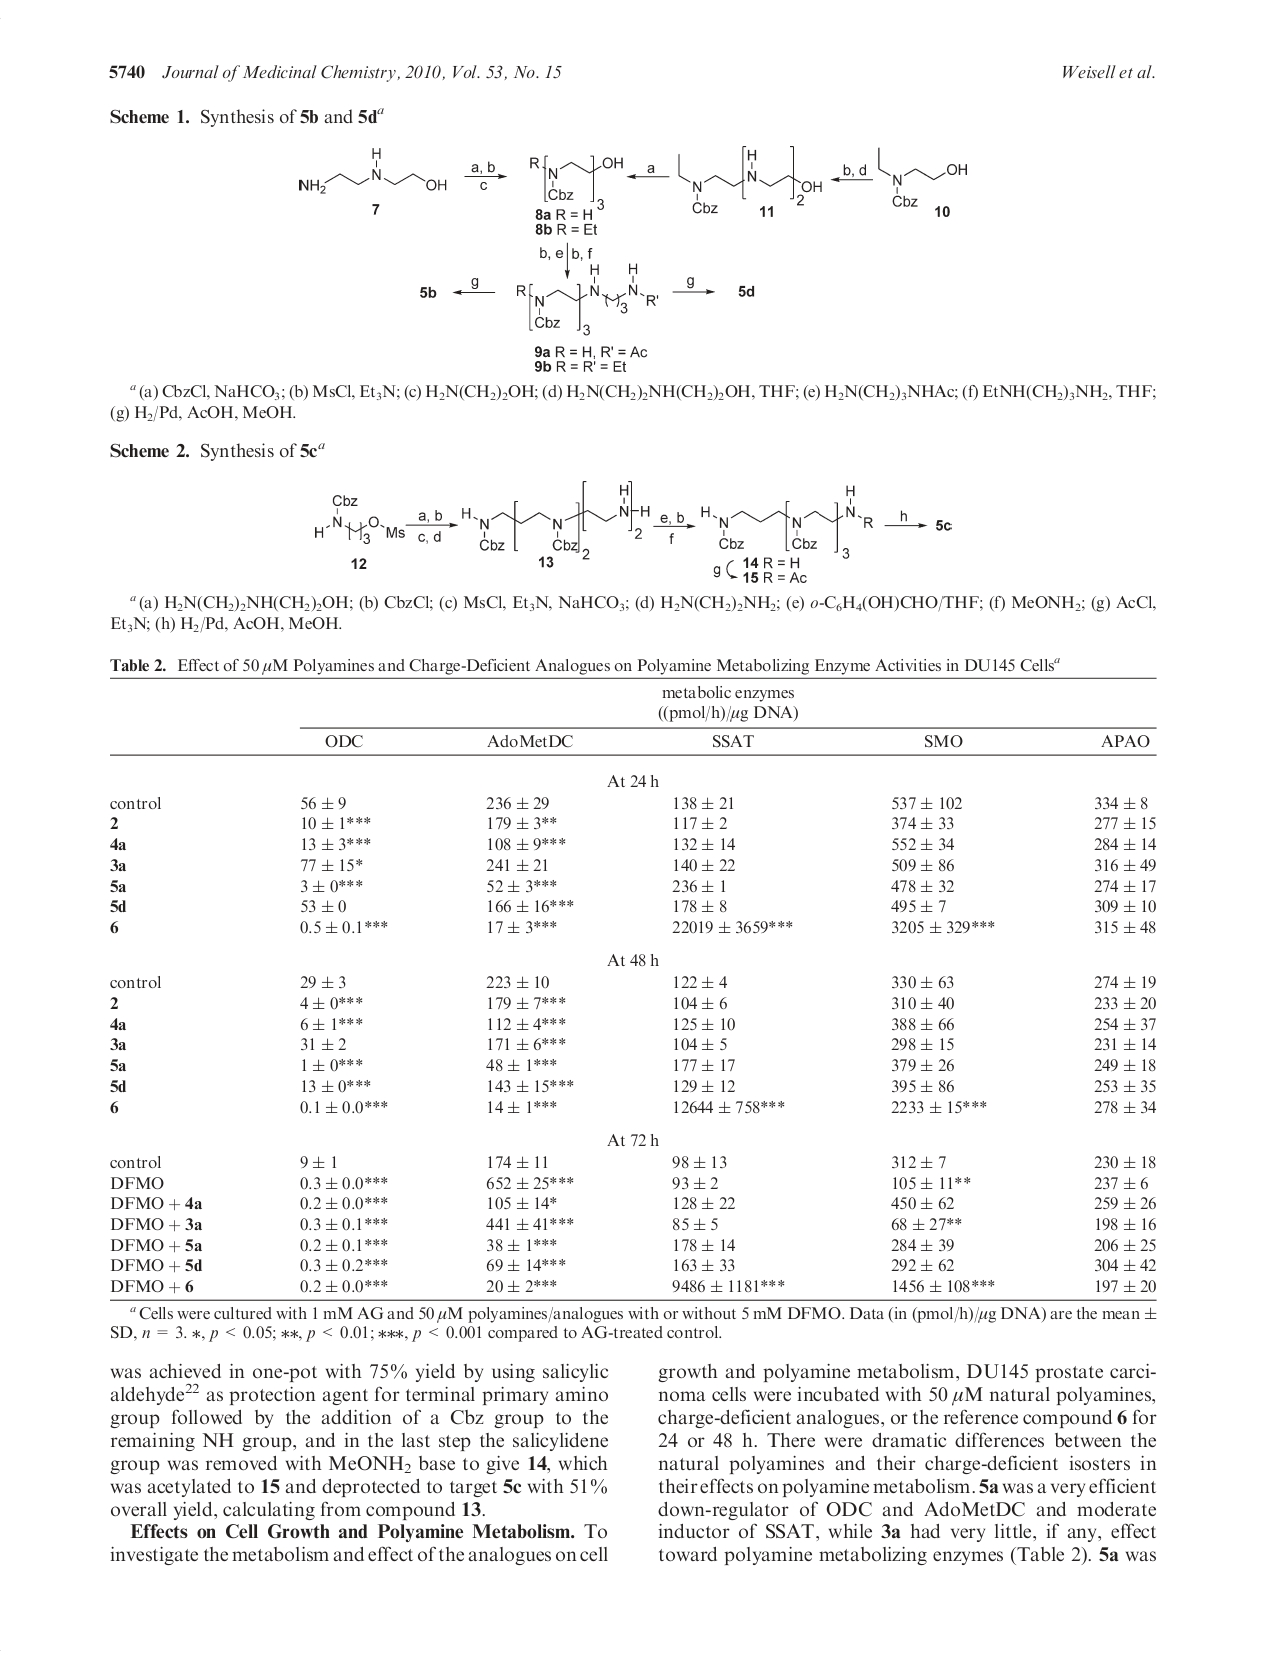exist_molecular: (460, 480, 652, 561), (699, 484, 874, 561), (515, 262, 662, 336), (676, 142, 828, 214), (297, 148, 449, 195), (309, 481, 406, 547), (525, 152, 630, 211), (878, 148, 971, 207)
